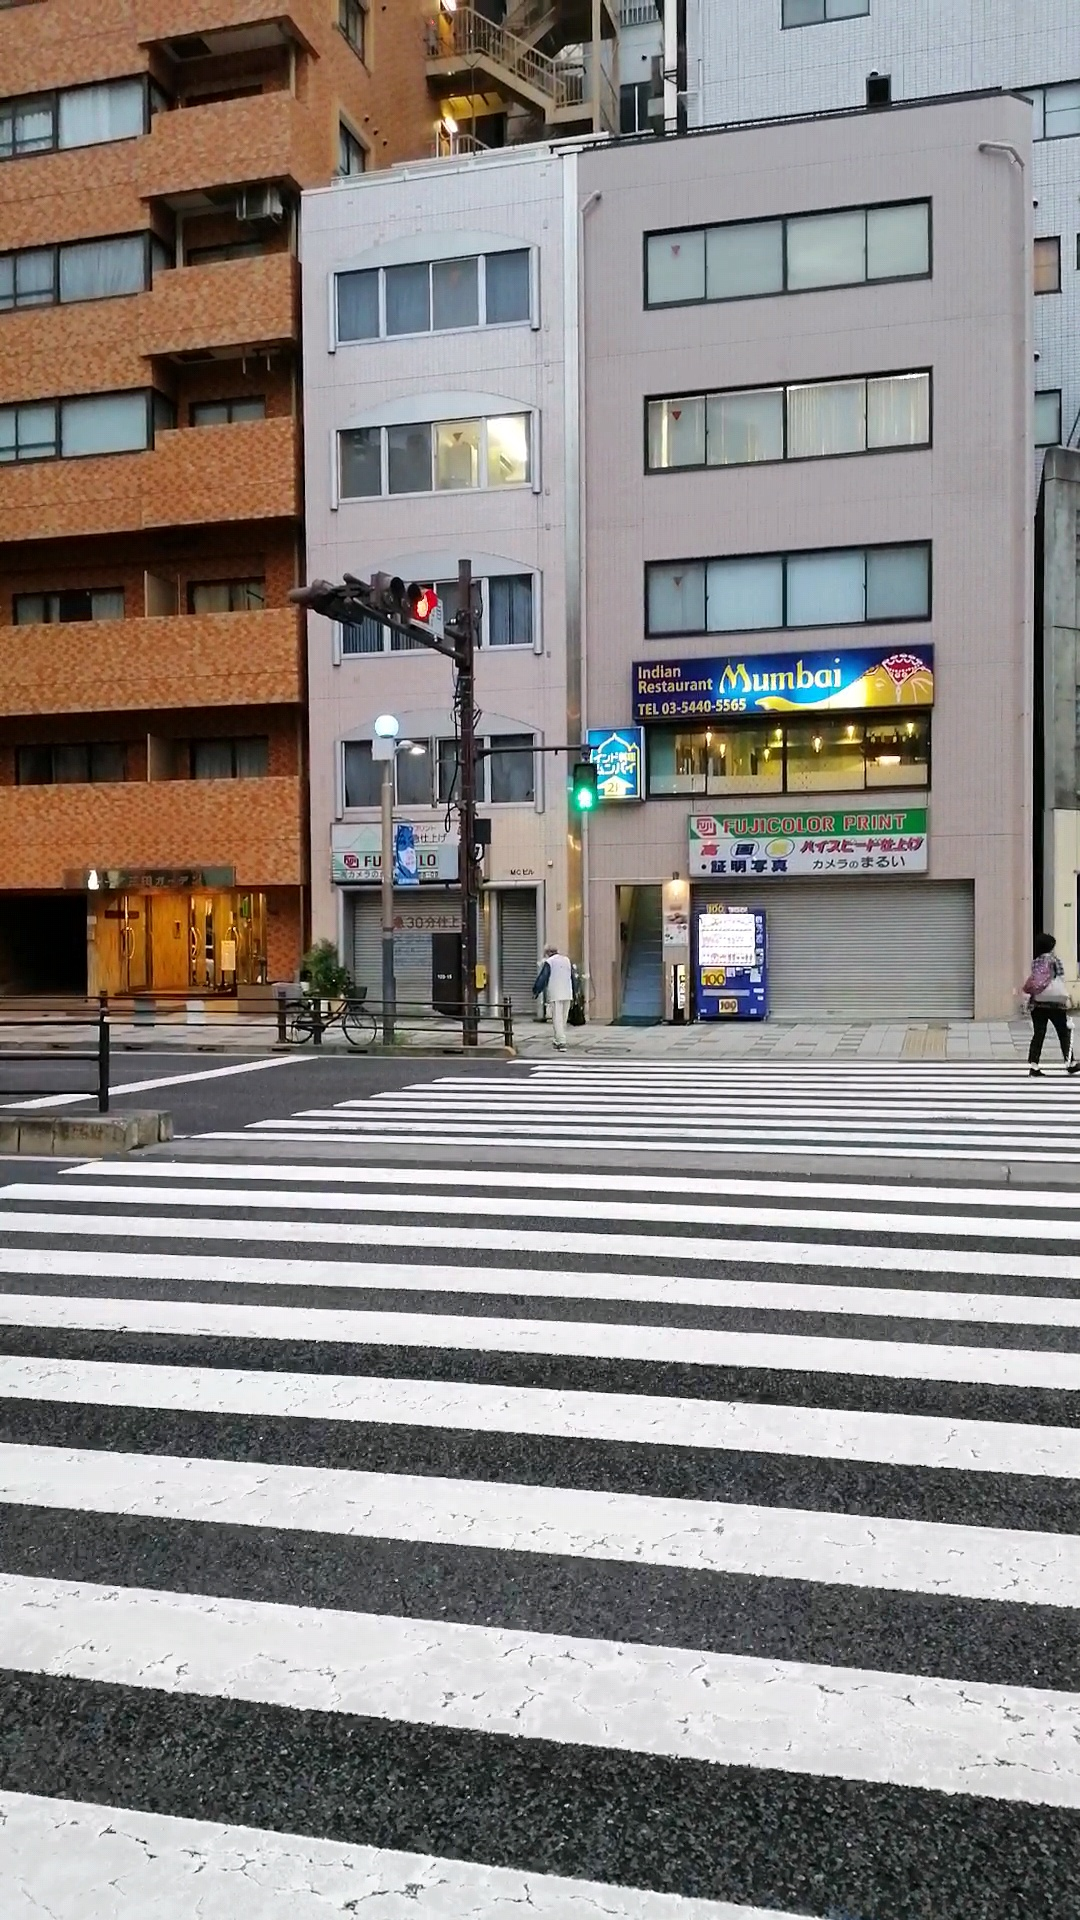green: (572, 760, 600, 812)
